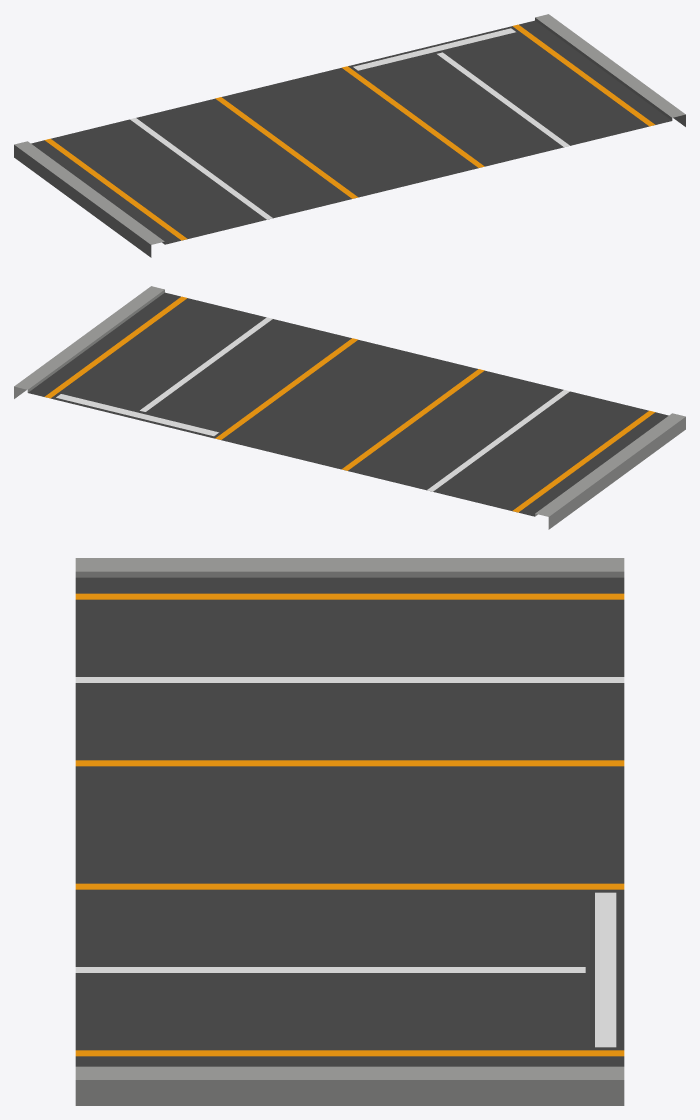
Rendered from Road_A_2L_1_7.fbx.
3 views of the same model, one above another, from view 1: azimuth 30°, elevation 25°; view 2: azimuth 150°, elevation 25°; view 3: azimuth 270°, elevation 25° (orthographic). The views are drawn at different scales.
Parts seen in each view (by area): view 1: Road_A_2L_1_7; view 2: Road_A_2L_1_7; view 3: Road_A_2L_1_7.
Part boxes in pixels (x1=…): Road_A_2L_1_7: x1=14, y1=14, x2=685, y2=257; Road_A_2L_1_7: x1=14, y1=286, x2=685, y2=529; Road_A_2L_1_7: x1=75, y1=558, x2=624, y2=1105.
Bounding box in the file's own units: 1800 × 41.48 × 800.
